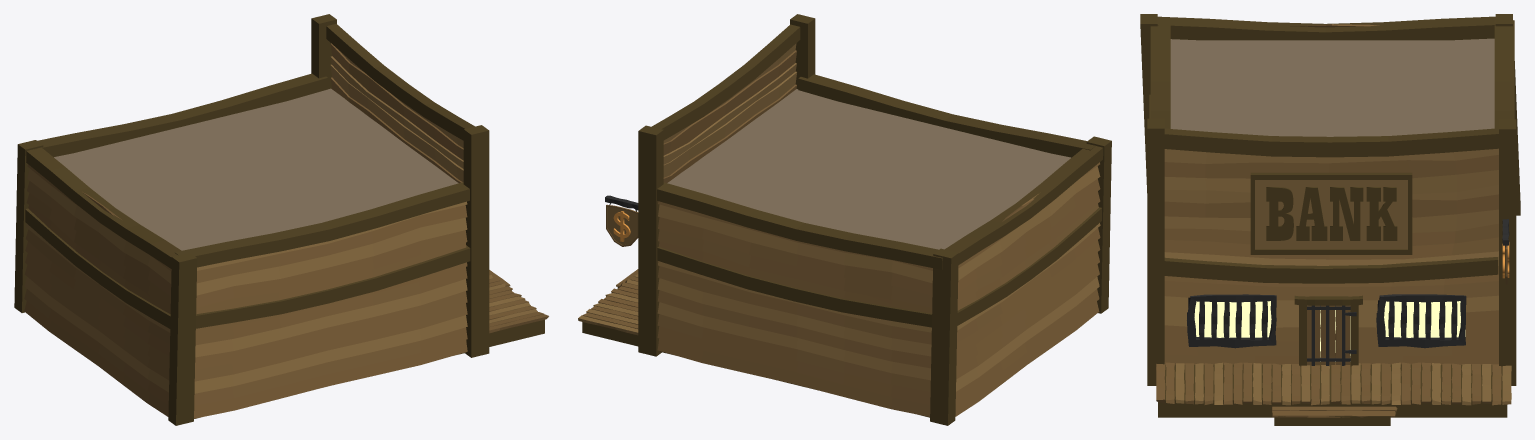
The model's file is house.glb.
The picture shows the model from 3 angles, left to right: view 1: azimuth 30°, elevation 25°; view 2: azimuth 150°, elevation 25°; view 3: azimuth 270°, elevation 25°; orthographic projection. The views are drawn at different scales.
Visible parts, largest first — view 1: Cube.217; view 2: Cube.217; view 3: Cube.217.
Boxes of the visible parts, x1,y1,x2,y2 form: Cube.217: [14, 14, 548, 425]; Cube.217: [578, 14, 1111, 425]; Cube.217: [1140, 14, 1520, 425].
Size of the model in its own units: 11.85 by 6.5 by 8.71.
